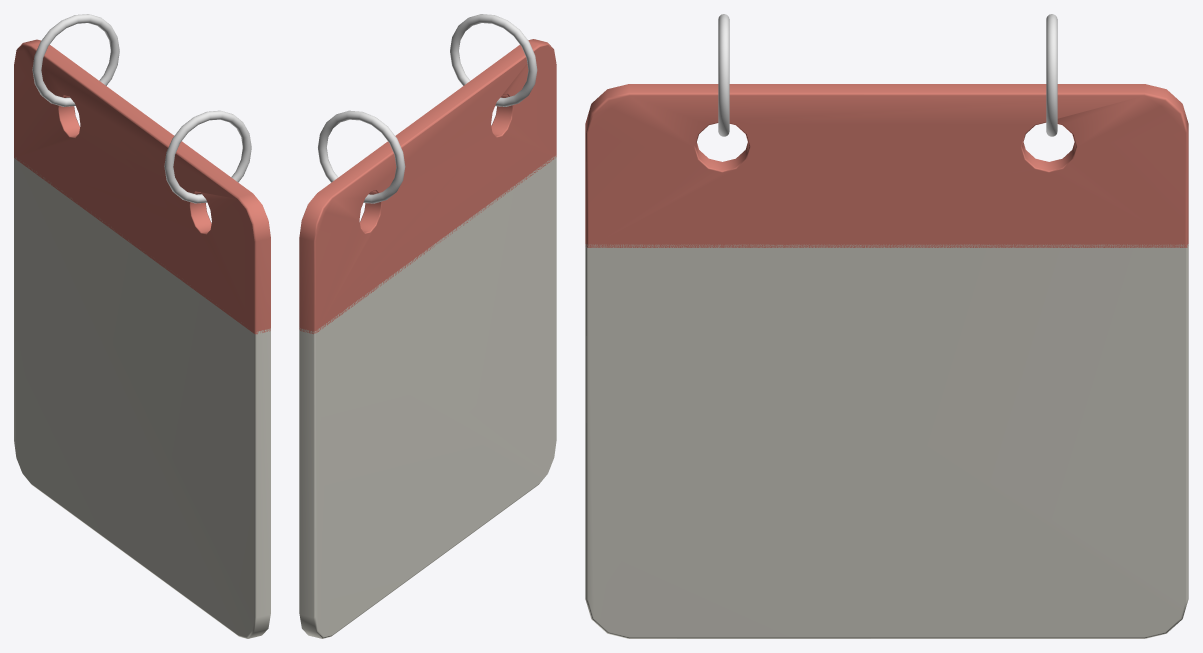
The model's file is cale.fbx.
The picture shows the model from 3 angles, left to right: view 1: azimuth 30°, elevation 25°; view 2: azimuth 150°, elevation 25°; view 3: azimuth 270°, elevation 25°; orthographic projection. The views are drawn at different scales.
Visible parts, largest first — view 1: polySurface6, polySurface5, pTorus1, pTorus2; view 2: polySurface6, polySurface5, pTorus2, pTorus1; view 3: polySurface6, polySurface5, pTorus1, pTorus2.
Part boxes in pixels (x1,y1,x2,y2): polySurface6: (14,157,270,638); polySurface5: (14,39,270,334); pTorus1: (32,14,119,106); pTorus2: (164,110,251,203); polySurface6: (299,156,556,638); polySurface5: (299,39,556,334); pTorus2: (450,14,537,106); pTorus1: (318,110,405,203); polySurface6: (585,244,1188,638); polySurface5: (585,84,1188,247); pTorus1: (1046,14,1057,136); pTorus2: (718,14,729,136).
Bounding box in the file's own units: 0.2053 × 1.13 × 1.
